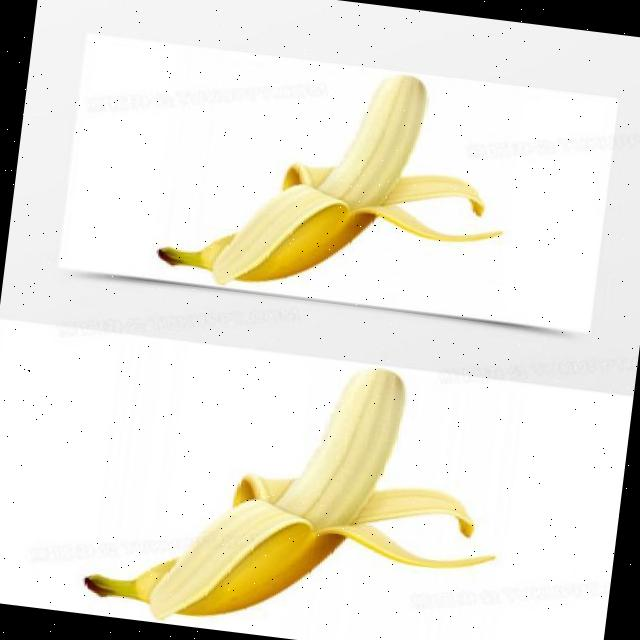banana-peel: (79, 333, 516, 640), (153, 45, 520, 318)
